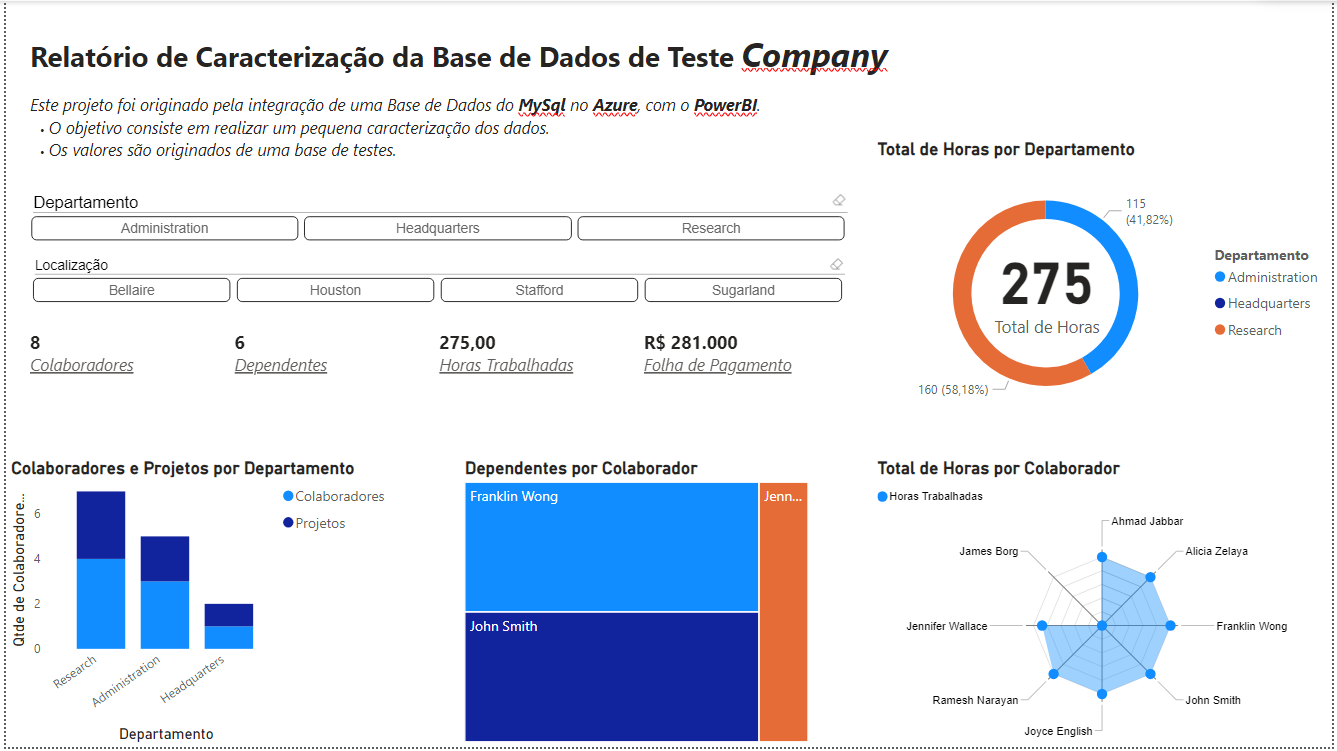

This screenshot's page, from the dashboard's own definition file:
{"tool":"powerbi","page":{"name":"Página 1","canvas":[1280,720],"ordinal":0},"visuals":[{"type":"columnChart","title":"Colaboradores e Projetos por Departamento","fields":{"Category":["azure_company departament.Dept_nome"],"Y":["azure_company employee.Mat_empregado","azure_company project.Proj_nome"]},"box":[0,440.4,380,279.9],"z":0},{"type":"treemap","title":"Dependentes por Colaborador","fields":{"Group":["Empregado.Nome"],"Values":["azure_company dependent.Dependente"]},"box":[437.9,440.4,341.4,279.9],"z":1000},{"type":"RadarChart1446119667547","title":"Total de Horas por Colaborador","fields":{"Y":["azure_company works_on.Horas"],"Category":["Empregado.Nome"]},"box":[836.1,440.4,444,279.9],"z":2000},{"type":"donutChart","title":"Total de Horas por Departamento","fields":{"Y":["azure_company works_on.Horas"],"Series":["Empregado.Departamento"]},"box":[836.1,132.7,444,279.9],"z":3000},{"type":"card","fields":{"Values":["azure_company works_on.Horas"]},"box":[880.7,193,248.5,166.5],"z":4000},{"type":"textbox","box":[18.1,24.1,846.9,144.8],"z":5000},{"type":"ChicletSlicer1448559807354","fields":{"Category":["azure_company departament.Dept_nome"]},"box":[18.1,182.2,797.5,60.3],"z":6000},{"type":"ChicletSlicer1448559807354","fields":{"Category":["azure_company dept_locations.Dept_local"]},"box":[18.1,242.5,797.5,70],"z":7000},{"type":"multiRowCard","fields":{"Values":["Empregado.Mat_empregado","azure_company dependent.Dependente","azure_company works_on.Horas","Empregado.Salario"]},"box":[18.1,312.5,800,85.7],"z":8000}]}

Visuals, with their boxes in screenshot pixels (x1, y1, x2, y2), scaled from the page's 1280x720 canvas onto the 1337x751 screenshot:
"Colaboradores e Projetos por Departamento" columnChart: locate(0, 459, 397, 750)
"Dependentes por Colaborador" treemap: locate(457, 459, 814, 750)
"Total de Horas por Colaborador" RadarChart1446119667547: locate(873, 459, 1336, 750)
"Total de Horas por Departamento" donutChart: locate(873, 138, 1336, 430)
card - azure_company works_on.Horas: locate(920, 201, 1179, 375)
textbox: locate(19, 25, 904, 176)
ChicletSlicer1448559807354 - azure_company departament.Dept_nome: locate(19, 190, 852, 253)
ChicletSlicer1448559807354 - azure_company dept_locations.Dept_local: locate(19, 253, 852, 326)
multiRowCard - Empregado.Mat_empregado x azure_company dependent.Dependente: locate(19, 326, 855, 415)
